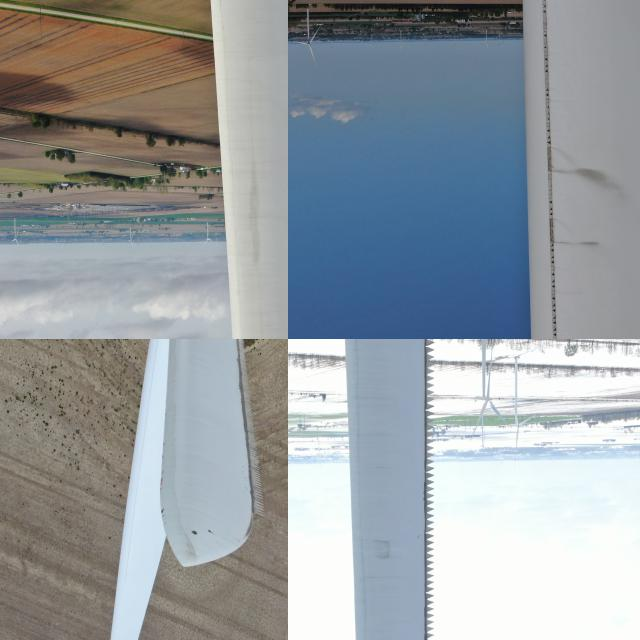damage: (156, 436, 166, 492), (537, 4, 548, 28), (544, 170, 556, 192), (544, 146, 554, 172), (546, 218, 556, 244), (548, 219, 556, 243), (160, 502, 168, 526), (206, 526, 212, 534)
